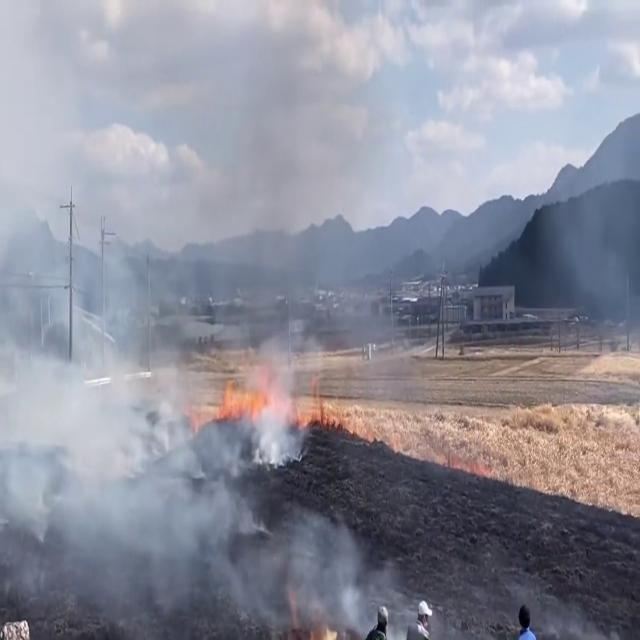Fire: (213, 366, 294, 428)
Smoke: (0, 143, 382, 629)
